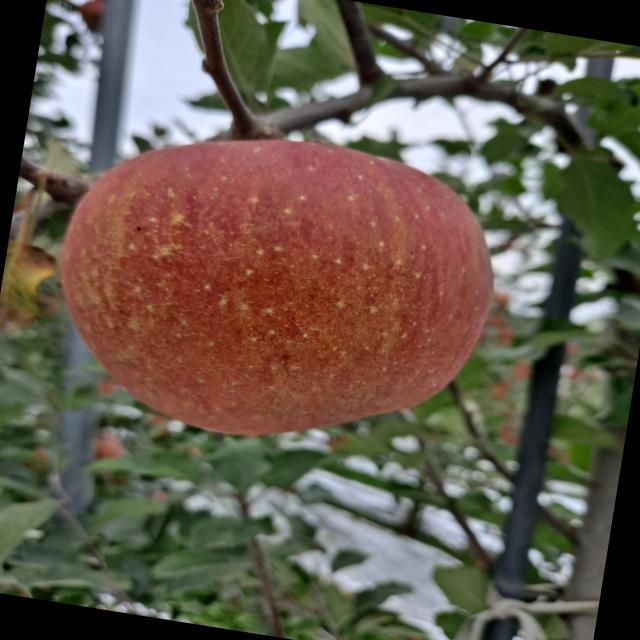fresh: (27, 93, 527, 482)
